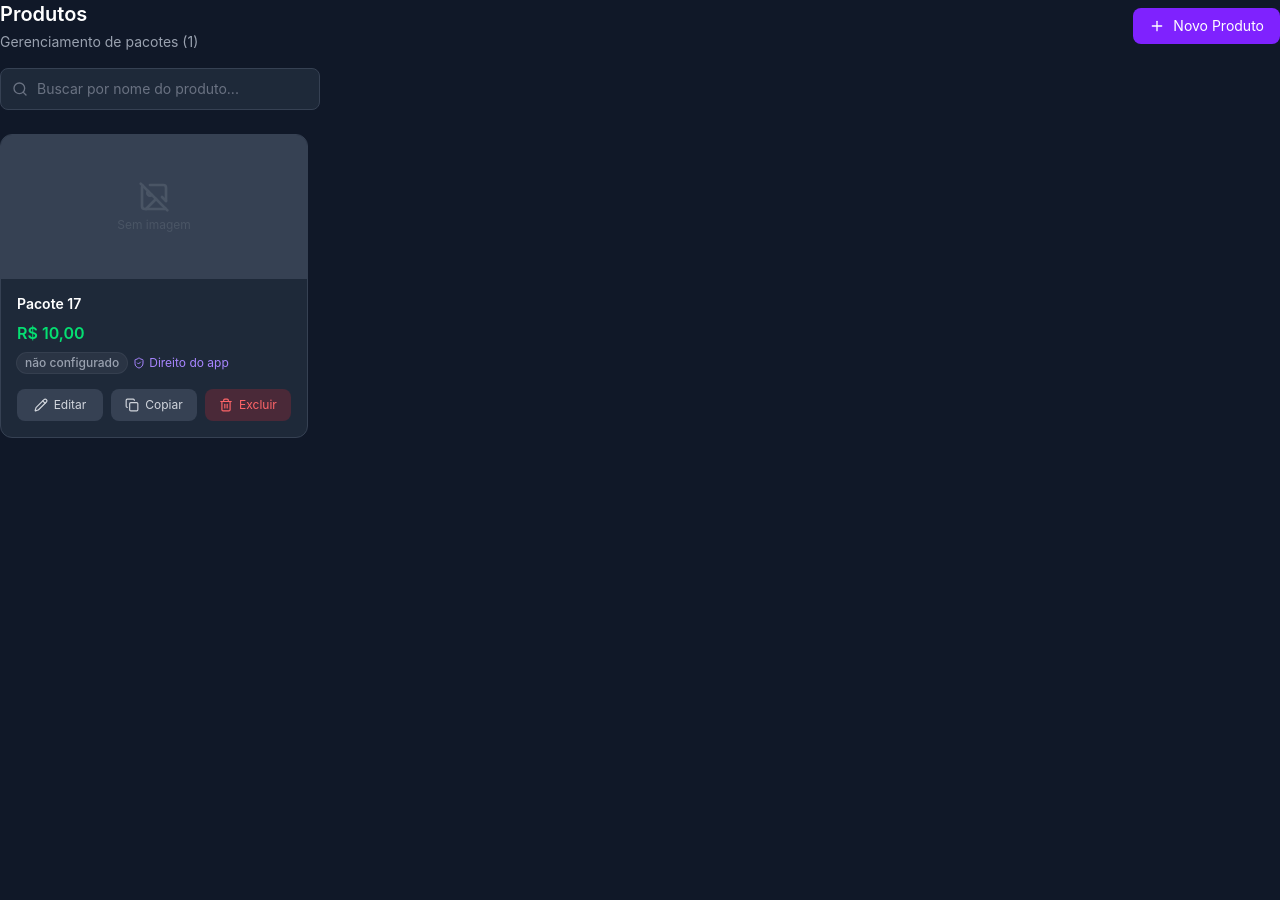
Test: Products: cadastro de direito › nome de exibicao grava pela rota propria
This screenshot has width=1280, height=900.
Click the button "Direito do app": (181,362) [133,354,229,370]
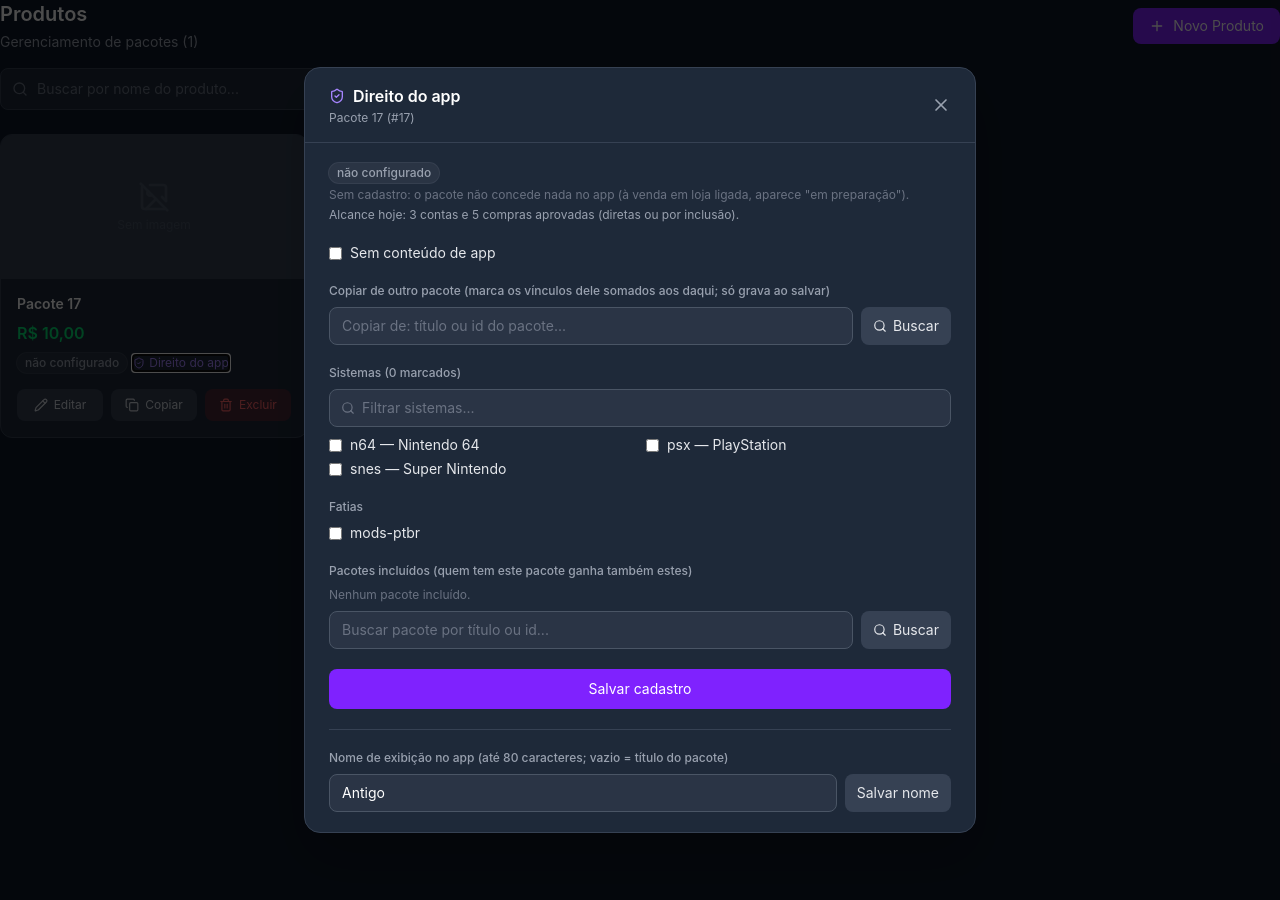
Expected: the field named "Nome de exibição" holds "Antigo"
Replace the text in the field named "Nome de exibição" with "Multijogos": (583,793) [329,774,837,812]
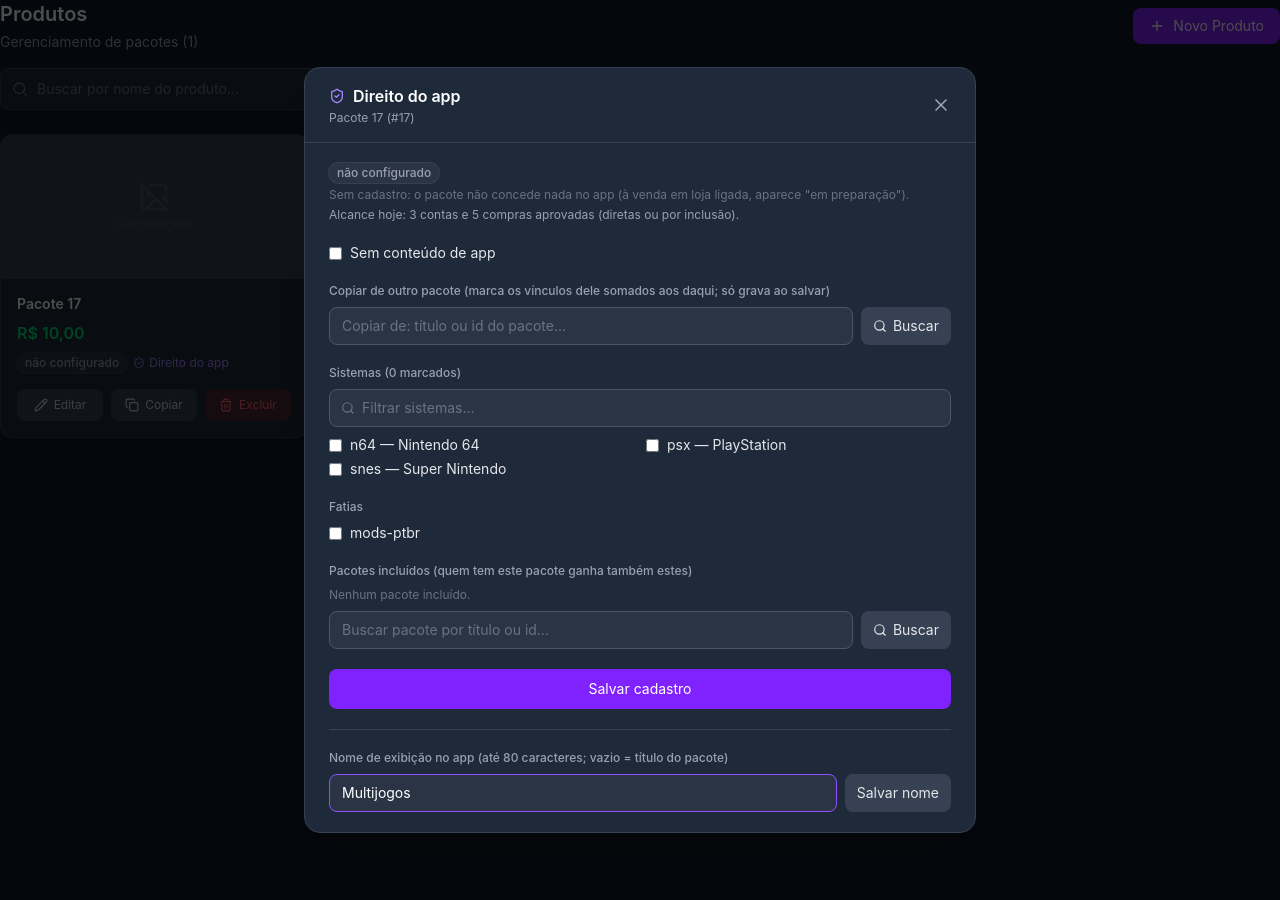
Click the button "Salvar nome": (898,793) [845,774,951,812]
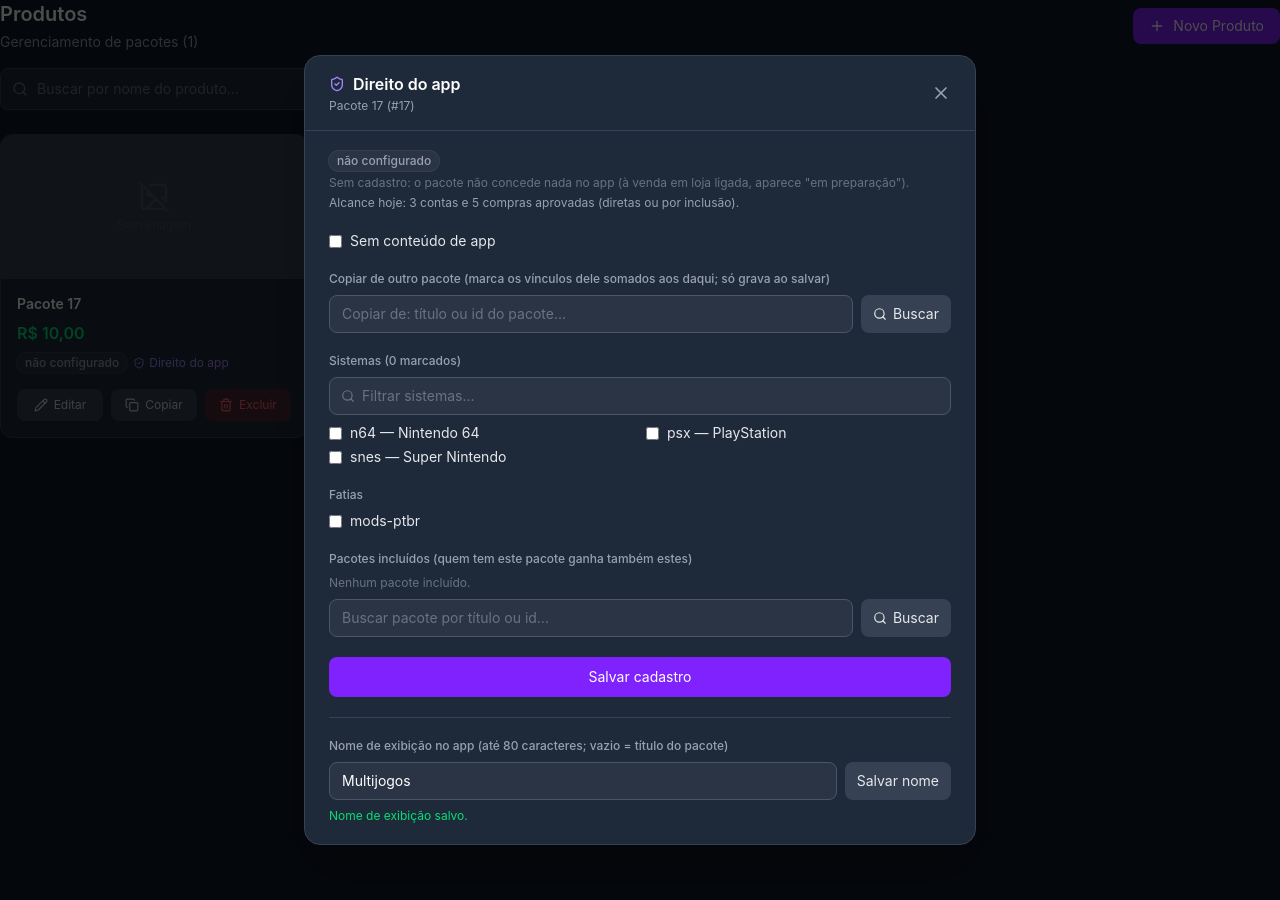
Expected: the text "Nome de exibição salvo." is shown, [329,808,468,823]
